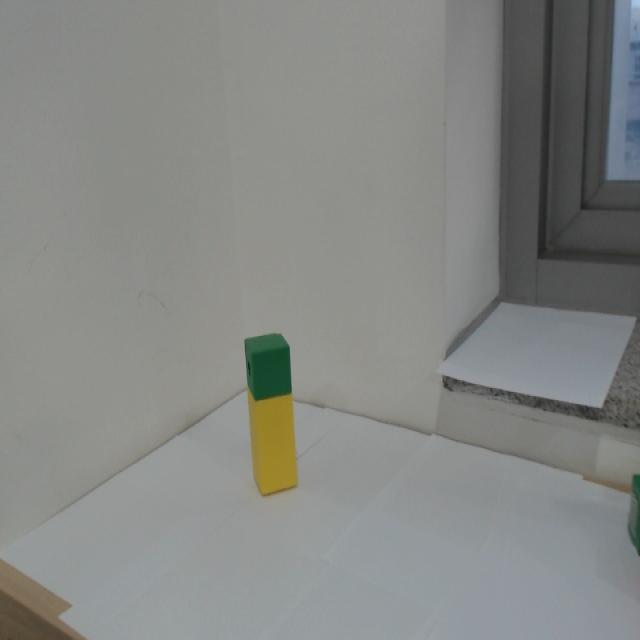cube: (243, 331, 294, 402)
